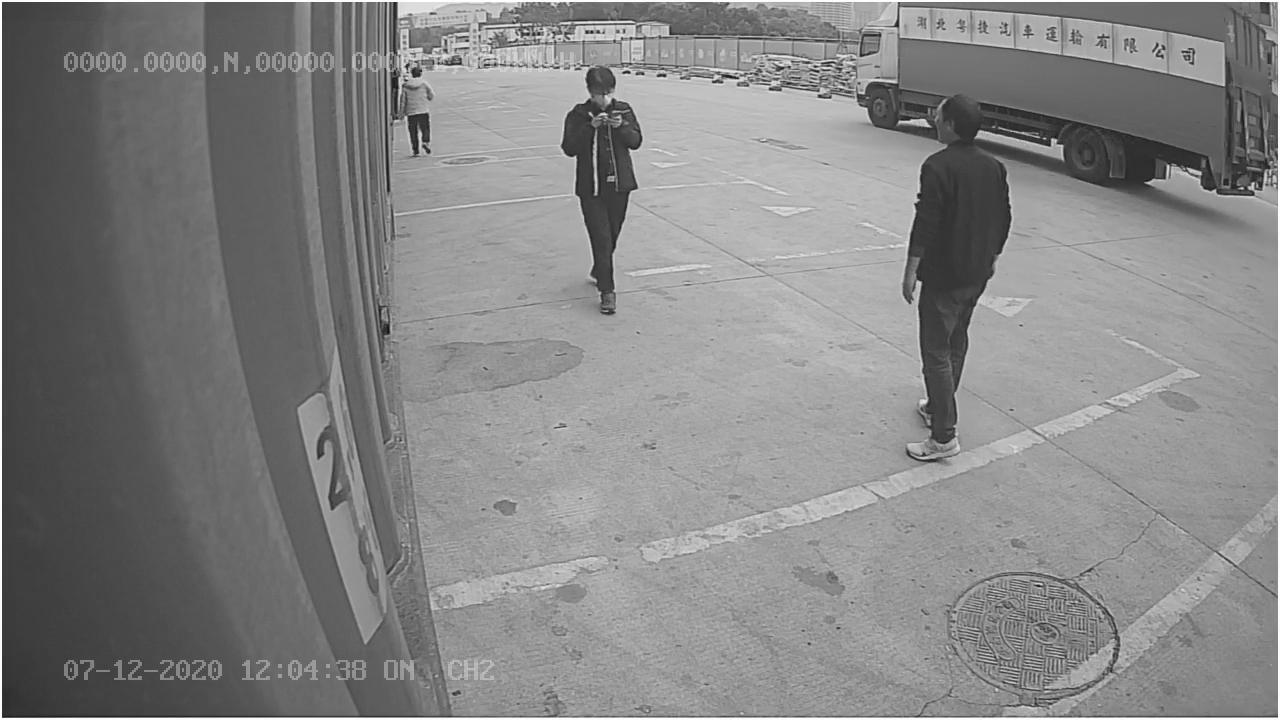person: (558, 59, 645, 316)
